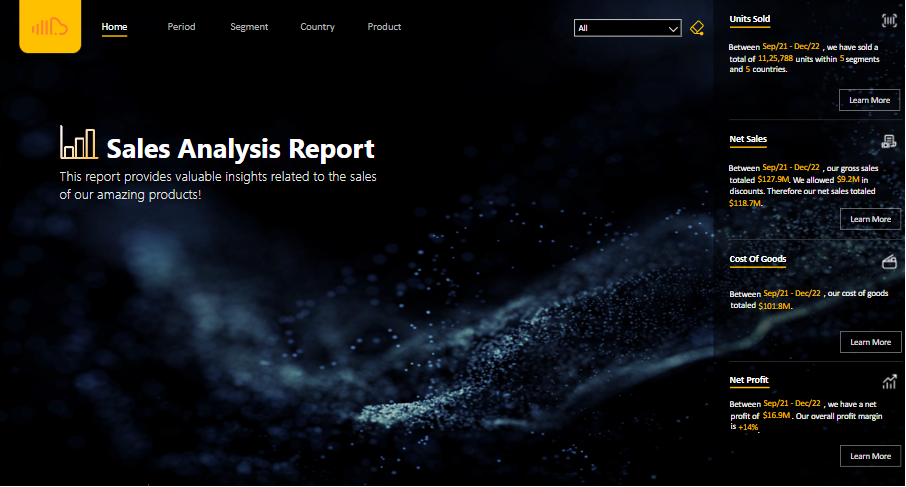

The page's visual inventory and layout, read from the dashboard file:
{"tool":"powerbi","page":{"name":"Home","canvas":[1280,720],"ordinal":0},"visuals":[{"type":"actionButton","title":"Button_Clear Managers","box":[951.8,26.3,36,24.6],"z":0,"group":"g7"},{"type":"textbox","box":[1010,68,100,30],"z":0,"group":"g9"},{"type":"actionButton","title":"Button_Learn More","box":[1167.9,124.6,85,30],"z":0,"group":"g8"},{"type":"textbox","box":[145,175,415,70],"z":0,"group":"g5"},{"type":"textbox","box":[1053,268.3,29.5,31.5],"z":0,"group":"g10"},{"type":"actionButton","title":"Button_Learn More","box":[1167.7,289.5,85.2,29.9],"z":0,"group":"g6"},{"type":"textbox","box":[1011.5,409.7,100,30],"z":0,"group":"g11"},{"type":"actionButton","title":"Button_Learn More","box":[1167.5,459.5,85.5,30],"z":0,"group":"g4"},{"type":"group","id":"g1","title":"Right Pane_Net Profit","box":[1010,514,243,134.5],"z":0,"group":"g3"},{"type":"textbox","box":[1049,583,26.5,30],"z":0,"group":"g12"},{"type":"group","id":"g2","title":"Footer","box":[21.1,670,1242.4,40.4],"z":0},{"type":"actionButton","title":"Button_Logo","box":[1118.7,672.6,144.9,37.8],"z":0,"group":"g2"},{"type":"group","id":"g3","title":"Right Pane","box":[1003,13,269,635.5],"z":1000},{"type":"textbox","title":"Text box_Units Sold","box":[1009.8,13.1,100,30.3],"z":1000,"group":"g8"},{"type":"slicer","title":"Slicer_Managers","fields":{"Values":["DIM_MANAGERS.Manager Name"]},"box":[788.5,16.7,169.5,44.8],"z":1000,"group":"g7"},{"type":"textbox","box":[1042,83,100,30],"z":1000,"group":"g9"},{"type":"actionButton","box":[72.9,157.2,79.9,79.9],"z":1000,"group":"g5"},{"type":"textbox","title":"Text box_Net Sales","box":[1009.8,179.6,100,30.3],"z":1000,"group":"g6"},{"type":"textbox","box":[1010,236.3,100,30],"z":1000,"group":"g10"},{"type":"group","id":"g4","title":"Right Pane_COGs","box":[1009.8,345.9,244.1,143.6],"z":1000,"group":"g3"},{"type":"textbox","title":"Text box_COGs","box":[1009.8,345.9,100,30.3],"z":1000,"group":"g4"},{"type":"textbox","box":[1095.5,410,17.5,32],"z":1000,"group":"g11"},{"type":"textbox","box":[1011,563.5,100,30],"z":1000,"group":"g12"},{"type":"actionButton","title":"Button_Learn More","box":[1167.7,618.6,85.2,29.9],"z":1000,"group":"g1"},{"type":"actionButton","title":"Button_website","box":[215,670,135.2,40.4],"z":1000,"group":"g2"},{"type":"actionButton","title":"Button_Product","box":[491,17,90,40],"z":2000,"group":"g7"},{"type":"shape","title":"Shape_Units Sold","box":[1016,23,56,31],"z":2000,"group":"g8"},{"type":"textbox","box":[1010.5,83,43,30],"z":2000,"group":"g9"},{"type":"group","id":"g5","title":"Main Area","box":[72.9,157.2,487.1,139.2],"z":2000},{"type":"group","id":"g6","title":"Right Pane_Net Sales","box":[1003,179.6,250,139.7],"z":2000,"group":"g3"},{"type":"shape","title":"Shape_Net Sales","box":[1016,189.1,51,31],"z":2000,"group":"g6"},{"type":"textbox","box":[79.9,227,455.7,69.4],"z":2000,"group":"g5"},{"type":"textbox","box":[1010,251.8,227.5,34.5],"z":2000,"group":"g10"},{"type":"shape","title":"Shape_COGs","box":[1016,356,78,31],"z":2000,"group":"g4"},{"type":"textbox","box":[1140.9,392.5,113,31.5],"z":2000,"group":"g11"},{"type":"textbox","title":"Text box_Net Profit","box":[1010,514,100,30],"z":2000,"group":"g1"},{"type":"textbox","box":[1011.5,578.5,43,30],"z":2000,"group":"g12"},{"type":"shape","title":"Shape_Line","box":[191,673,35,35],"z":2000,"group":"g2"},{"type":"group","id":"g7","title":"Header","box":[46,11,941.8,54],"z":3000},{"type":"group","id":"g8","title":"Right Pane_Units Sold","box":[1009,13,263,141.6],"z":3000,"group":"g3"},{"type":"actionButton","title":"Button_Units Sold Icon","box":[1221,13,32,32],"z":3000,"group":"g8"},{"type":"actionButton","title":"Button_Country","box":[397,17,90,40],"z":3000,"group":"g7"},{"type":"textbox","box":[1172,68,100,30],"z":3000,"group":"g9"},{"type":"actionButton","title":"Button_Net Sales Icon","box":[1221,180.1,32,32],"z":3000,"group":"g6"},{"type":"textbox","box":[1193,236.3,29.5,31.5],"z":3000,"group":"g10"},{"type":"actionButton","title":"Button_COGs Icon","box":[1221,347,32,32],"z":3000,"group":"g4"},{"type":"textbox","box":[1010.5,393.7,100,30],"z":3000,"group":"g11"},{"type":"shape","title":"Shape_Net Profit","box":[1016,523,55,32],"z":3000,"group":"g1"},{"type":"textbox","box":[1095.5,564,150.5,30],"z":3000,"group":"g12"},{"type":"actionButton","title":"Button_TikTok","box":[167.2,679.5,21.9,21.9],"z":3000,"group":"g2"},{"type":"actionButton","title":"Button_Segment","box":[303,17,90,40],"z":4000,"group":"g7"},{"type":"group","id":"g9","title":"Units Sold Info","box":[1009,52,263,62.5],"z":4000,"group":"g8"},{"type":"textbox","box":[1102,68,100,30],"z":4000,"group":"g9"},{"type":"group","id":"g10","title":"Net Sales Info","box":[1003,220.3,236.5,80],"z":4000,"group":"g6"},{"type":"textbox","box":[1092.5,236.3,100,30],"z":4000,"group":"g10"},{"type":"group","id":"g11","title":"COGs Info","box":[1010.5,392.5,243.4,50.5],"z":4000,"group":"g4"},{"type":"card","fields":{"Values":["*Measures.M_Date Selection"]},"box":[1052,394.5,100,30],"z":4000,"group":"g11"},{"type":"actionButton","title":"Button_Net Profit Icon","box":[1221,514,32,32],"z":4000,"group":"g1"},{"type":"textbox","box":[1140.5,547.5,100,30],"z":4000,"group":"g12"},{"type":"actionButton","title":"Button_LinkedIN","box":[137.9,679.5,22,22],"z":4000,"group":"g2"},{"type":"actionButton","title":"Button_Period","box":[209,17,90,40],"z":5000,"group":"g7"},{"type":"textbox","box":[1139.5,52,100,30],"z":5000,"group":"g9"},{"type":"textbox","box":[1139.5,220.3,100,30],"z":5000,"group":"g10"},{"type":"card","fields":{"Values":["*Measures.M_Cost Of Goods"]},"box":[1048,408.5,58.5,34.5],"z":5000,"group":"g11"},{"type":"group","id":"g12","title":"Net Profit Info","box":[1010,547.5,236,65.5],"z":5000,"group":"g1"},{"type":"textbox","box":[1010,547.5,100,30],"z":5000,"group":"g12"},{"type":"actionButton","title":"Button_Insta","box":[108.7,679.5,22,22],"z":5000,"group":"g2"},{"type":"shape","title":"Shape_Home","box":[143.1,34.2,35.1,30.7],"z":6000,"group":"g7"},{"type":"textbox","box":[1009,52,100,30],"z":6000,"group":"g9"},{"type":"textbox","box":[1009,220.3,100,30],"z":6000,"group":"g10"},{"type":"card","fields":{"Values":["*Measures.M_Date Selection"]},"box":[1051.5,548,100,30],"z":6000,"group":"g12"},{"type":"actionButton","title":"Button_Twitter","box":[79.5,679.5,22,22],"z":6000,"group":"g2"},{"type":"actionButton","title":"Button_Home","box":[115,17,90,40],"z":7000,"group":"g7"},{"type":"card","fields":{"Values":["*Measures.M_Date Selection"]},"box":[1050.5,52.5,100,30],"z":7000,"group":"g9"},{"type":"card","fields":{"Values":["*Measures.M_Date Selection"]},"box":[1050.5,220.8,100,30],"z":7000,"group":"g10"},{"type":"card","fields":{"Values":["*Measures.M_Profit"]},"box":[1044.5,564,70,30],"z":7000,"group":"g12"},{"type":"actionButton","title":"Button_YT","box":[50.3,679.5,22,22],"z":7000,"group":"g2"},{"type":"actionButton","title":"Button_Logo","box":[46,11,50,50],"z":8000,"group":"g7"},{"type":"card","fields":{"Values":["*Measures.M_Units Sold"]},"box":[1043.5,68.5,70,30],"z":8000,"group":"g9"},{"type":"card","fields":{"Values":["*Measures.M_Gross Sales"]},"box":[1040.5,236.3,70,30],"z":8000,"group":"g10"},{"type":"card","fields":{"Values":["*Measures.M_Profit Margin Formatted"]},"box":[1020,579,42,33],"z":8000,"group":"g12"},{"type":"actionButton","title":"Button_Facebook","box":[21.1,679.5,22,22],"z":8000,"group":"g2"},{"type":"card","fields":{"Values":["*Measures.M_# of Distinct Segments"]},"box":[1160,68.5,22,30],"z":9000,"group":"g9"},{"type":"card","fields":{"Values":["*Measures.M_Discounts"]},"box":[1154,236.8,50,30],"z":9000,"group":"g10"},{"type":"card","fields":{"Values":["*Measures.M_# of Distinct Countries"]},"box":[1029.5,84.5,21.5,30],"z":10000,"group":"g9"},{"type":"card","fields":{"Values":["*Measures.M_Net Sales"]},"box":[1003,268.8,66,31.5],"z":10000,"group":"g10"}]}

Visuals, with their boxes on the page's 1280x720 design canvas (x1, y1, x2, y2). These are canvas units, not pixel positions in the 906x487 screenshot, which may show the page scaled, cropped or inside an application window:
"Button_Clear Managers" actionButton: (x1=952, y1=26, x2=988, y2=51)
textbox: (x1=1010, y1=68, x2=1110, y2=98)
"Button_Learn More" actionButton: (x1=1168, y1=125, x2=1253, y2=155)
textbox: (x1=145, y1=175, x2=560, y2=245)
textbox: (x1=1053, y1=268, x2=1082, y2=300)
"Button_Learn More" actionButton: (x1=1168, y1=290, x2=1253, y2=319)
textbox: (x1=1012, y1=410, x2=1112, y2=440)
"Button_Learn More" actionButton: (x1=1168, y1=460, x2=1253, y2=490)
"Right Pane_Net Profit" group: (x1=1010, y1=514, x2=1253, y2=648)
textbox: (x1=1049, y1=583, x2=1076, y2=613)
"Footer" group: (x1=21, y1=670, x2=1264, y2=710)
"Button_Logo" actionButton: (x1=1119, y1=673, x2=1264, y2=710)
"Right Pane" group: (x1=1003, y1=13, x2=1272, y2=648)
"Text box_Units Sold" textbox: (x1=1010, y1=13, x2=1110, y2=43)
"Slicer_Managers" slicer: (x1=788, y1=17, x2=958, y2=62)
textbox: (x1=1042, y1=83, x2=1142, y2=113)
actionButton: (x1=73, y1=157, x2=153, y2=237)
"Text box_Net Sales" textbox: (x1=1010, y1=180, x2=1110, y2=210)
textbox: (x1=1010, y1=236, x2=1110, y2=266)
"Right Pane_COGs" group: (x1=1010, y1=346, x2=1254, y2=490)
"Text box_COGs" textbox: (x1=1010, y1=346, x2=1110, y2=376)
textbox: (x1=1096, y1=410, x2=1113, y2=442)
textbox: (x1=1011, y1=564, x2=1111, y2=594)
"Button_Learn More" actionButton: (x1=1168, y1=619, x2=1253, y2=648)
"Button_website" actionButton: (x1=215, y1=670, x2=350, y2=710)
"Button_Product" actionButton: (x1=491, y1=17, x2=581, y2=57)
"Shape_Units Sold" shape: (x1=1016, y1=23, x2=1072, y2=54)
textbox: (x1=1010, y1=83, x2=1054, y2=113)
"Main Area" group: (x1=73, y1=157, x2=560, y2=296)
"Right Pane_Net Sales" group: (x1=1003, y1=180, x2=1253, y2=319)
"Shape_Net Sales" shape: (x1=1016, y1=189, x2=1067, y2=220)
textbox: (x1=80, y1=227, x2=536, y2=296)
textbox: (x1=1010, y1=252, x2=1238, y2=286)
"Shape_COGs" shape: (x1=1016, y1=356, x2=1094, y2=387)
textbox: (x1=1141, y1=392, x2=1254, y2=424)
"Text box_Net Profit" textbox: (x1=1010, y1=514, x2=1110, y2=544)
textbox: (x1=1012, y1=578, x2=1054, y2=608)
"Shape_Line" shape: (x1=191, y1=673, x2=226, y2=708)
"Header" group: (x1=46, y1=11, x2=988, y2=65)
"Right Pane_Units Sold" group: (x1=1009, y1=13, x2=1272, y2=155)
"Button_Units Sold Icon" actionButton: (x1=1221, y1=13, x2=1253, y2=45)
"Button_Country" actionButton: (x1=397, y1=17, x2=487, y2=57)
textbox: (x1=1172, y1=68, x2=1272, y2=98)
"Button_Net Sales Icon" actionButton: (x1=1221, y1=180, x2=1253, y2=212)
textbox: (x1=1193, y1=236, x2=1222, y2=268)
"Button_COGs Icon" actionButton: (x1=1221, y1=347, x2=1253, y2=379)
textbox: (x1=1010, y1=394, x2=1110, y2=424)
"Shape_Net Profit" shape: (x1=1016, y1=523, x2=1071, y2=555)
textbox: (x1=1096, y1=564, x2=1246, y2=594)
"Button_TikTok" actionButton: (x1=167, y1=680, x2=189, y2=701)
"Button_Segment" actionButton: (x1=303, y1=17, x2=393, y2=57)
"Units Sold Info" group: (x1=1009, y1=52, x2=1272, y2=114)
textbox: (x1=1102, y1=68, x2=1202, y2=98)
"Net Sales Info" group: (x1=1003, y1=220, x2=1240, y2=300)
textbox: (x1=1092, y1=236, x2=1192, y2=266)
"COGs Info" group: (x1=1010, y1=392, x2=1254, y2=443)
card - *Measures.M_Date Selection: (x1=1052, y1=394, x2=1152, y2=424)
"Button_Net Profit Icon" actionButton: (x1=1221, y1=514, x2=1253, y2=546)
textbox: (x1=1140, y1=548, x2=1240, y2=578)
"Button_LinkedIN" actionButton: (x1=138, y1=680, x2=160, y2=702)
"Button_Period" actionButton: (x1=209, y1=17, x2=299, y2=57)
textbox: (x1=1140, y1=52, x2=1240, y2=82)
textbox: (x1=1140, y1=220, x2=1240, y2=250)
card - *Measures.M_Cost Of Goods: (x1=1048, y1=408, x2=1106, y2=443)
"Net Profit Info" group: (x1=1010, y1=548, x2=1246, y2=613)
textbox: (x1=1010, y1=548, x2=1110, y2=578)
"Button_Insta" actionButton: (x1=109, y1=680, x2=131, y2=702)
"Shape_Home" shape: (x1=143, y1=34, x2=178, y2=65)
textbox: (x1=1009, y1=52, x2=1109, y2=82)
textbox: (x1=1009, y1=220, x2=1109, y2=250)
card - *Measures.M_Date Selection: (x1=1052, y1=548, x2=1152, y2=578)
"Button_Twitter" actionButton: (x1=80, y1=680, x2=102, y2=702)
"Button_Home" actionButton: (x1=115, y1=17, x2=205, y2=57)
card - *Measures.M_Date Selection: (x1=1050, y1=52, x2=1150, y2=82)
card - *Measures.M_Date Selection: (x1=1050, y1=221, x2=1150, y2=251)
card - *Measures.M_Profit: (x1=1044, y1=564, x2=1114, y2=594)
"Button_YT" actionButton: (x1=50, y1=680, x2=72, y2=702)
"Button_Logo" actionButton: (x1=46, y1=11, x2=96, y2=61)
card - *Measures.M_Units Sold: (x1=1044, y1=68, x2=1114, y2=98)
card - *Measures.M_Gross Sales: (x1=1040, y1=236, x2=1110, y2=266)
card - *Measures.M_Profit Margin Formatted: (x1=1020, y1=579, x2=1062, y2=612)
"Button_Facebook" actionButton: (x1=21, y1=680, x2=43, y2=702)
card - *Measures.M_# of Distinct Segments: (x1=1160, y1=68, x2=1182, y2=98)
card - *Measures.M_Discounts: (x1=1154, y1=237, x2=1204, y2=267)
card - *Measures.M_# of Distinct Countries: (x1=1030, y1=84, x2=1051, y2=114)
card - *Measures.M_Net Sales: (x1=1003, y1=269, x2=1069, y2=300)
